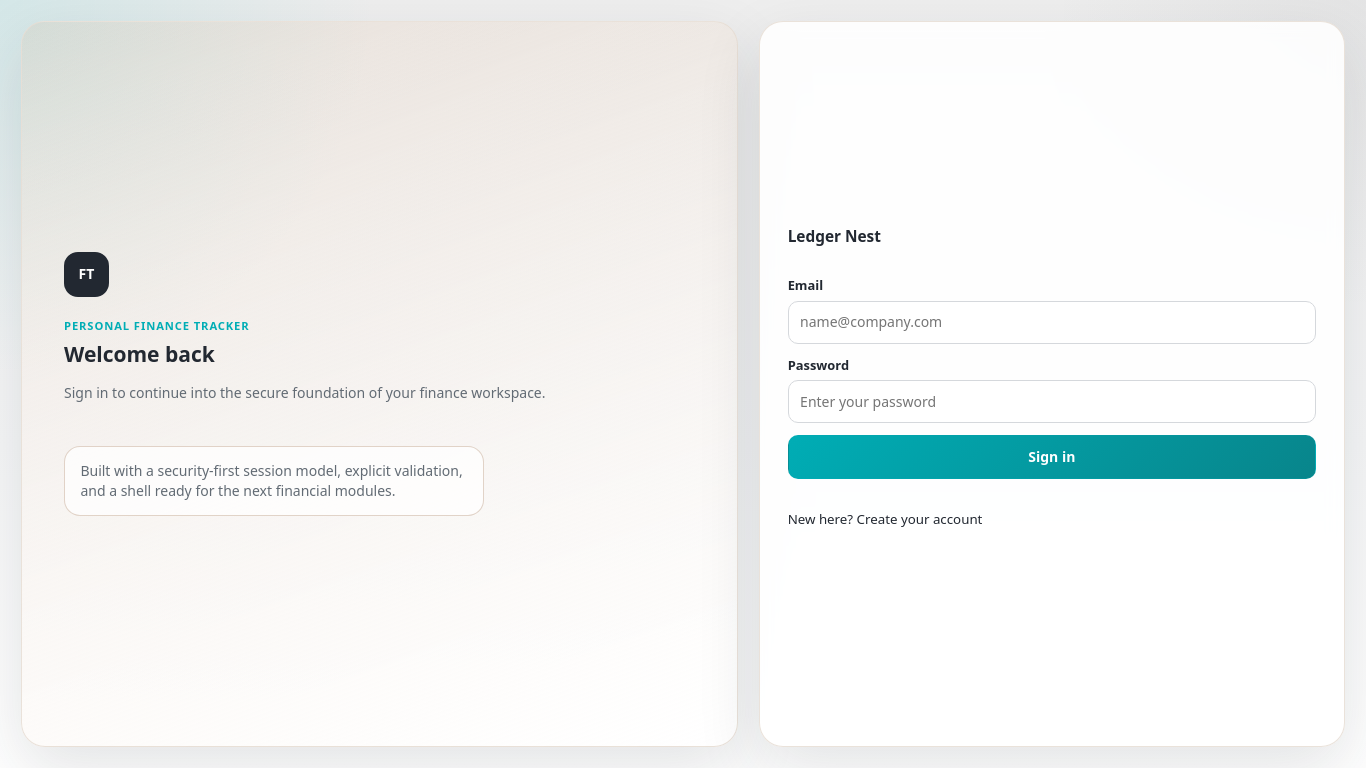
Scenario: LoginPage › shows validation errors for empty submit
The image size is (1366, 768).
Click the button "Sign in" at (1052, 457), box [788,435,1316,480]
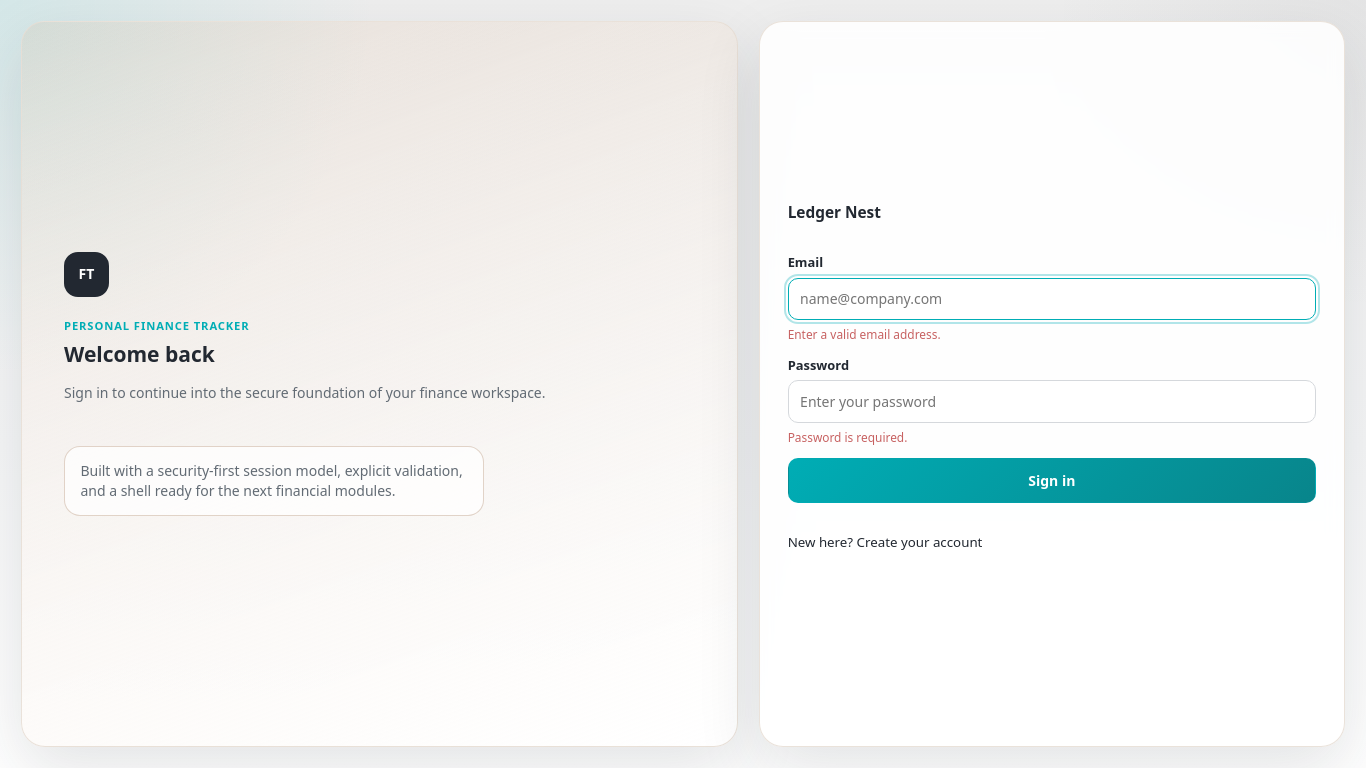
Result: the text "Enter a valid email address." is shown at [788,326,941,342]
Result: the text "Password is required." is shown at [788,429,907,445]
